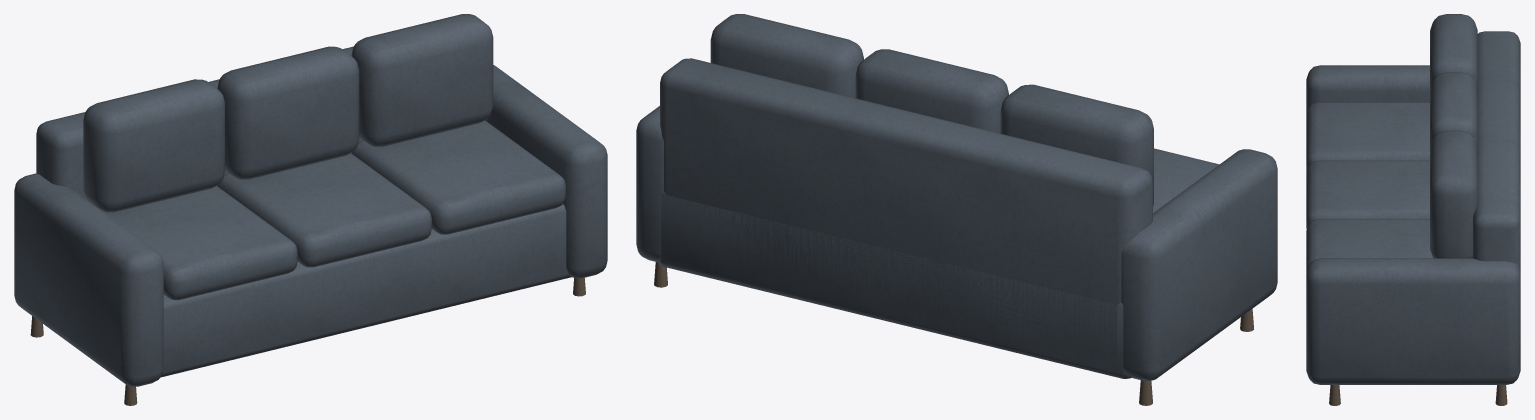
File: sofa_3seat.fbx
3 views of the same model, side by side, from view 1: azimuth 30°, elevation 25°; view 2: azimuth 150°, elevation 25°; view 3: azimuth 270°, elevation 25° (orthographic). The views are drawn at different scales.
Visible parts, largest first — view 1: sofa_3seat; view 2: sofa_3seat; view 3: sofa_3seat.
Part boxes in pixels (x1,y1,x2,y2): sofa_3seat: (14, 14, 607, 405); sofa_3seat: (636, 14, 1277, 405); sofa_3seat: (1306, 14, 1520, 405).
Size of what is drawn, in the model's own units: 210 by 98 by 90.
Materials: 2 (2 with a texture image).
